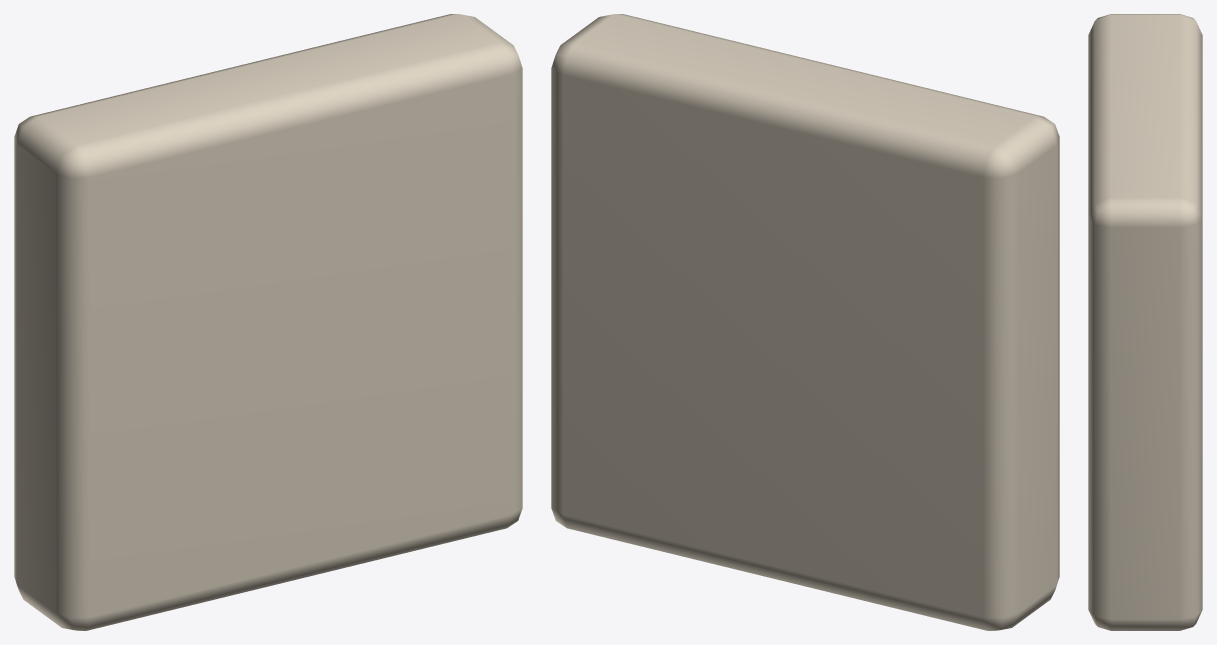
File: ikea_gurli_unbleached_00598730.glb
3 views of the same model, side by side, from view 1: azimuth 30°, elevation 25°; view 2: azimuth 150°, elevation 25°; view 3: azimuth 270°, elevation 25° (orthographic). The views are drawn at different scales.
Parts seen in each view (by area): view 1: cushion; view 2: cushion; view 3: cushion.
Boxes of the visible parts, x1,y1,x2,y2 form: cushion: (14, 14, 522, 630); cushion: (551, 14, 1059, 630); cushion: (1088, 14, 1202, 630).
Bounding box in the file's own units: 0.5 × 0.5 × 0.12.
